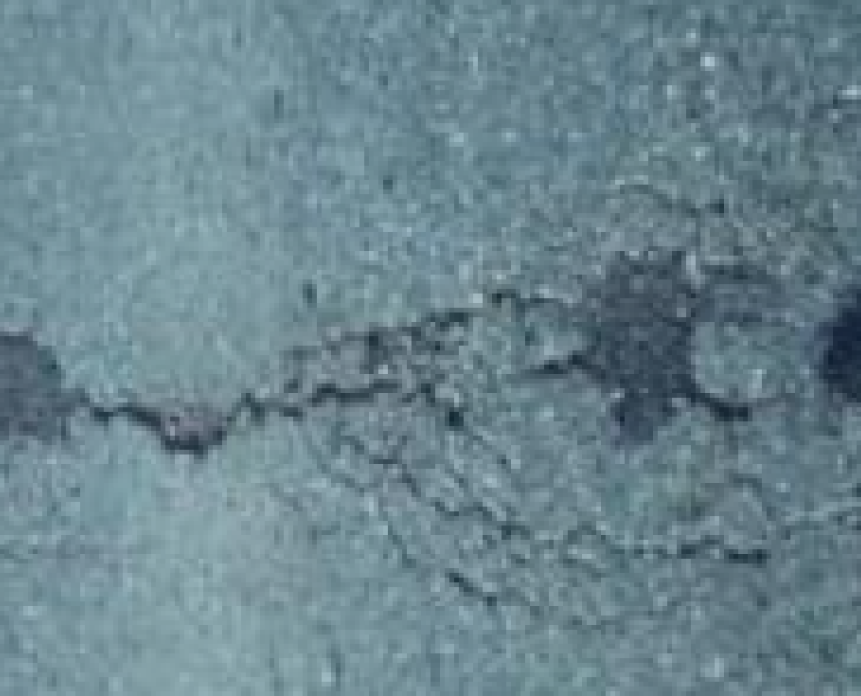Retak Melintang: (6, 257, 861, 574)
